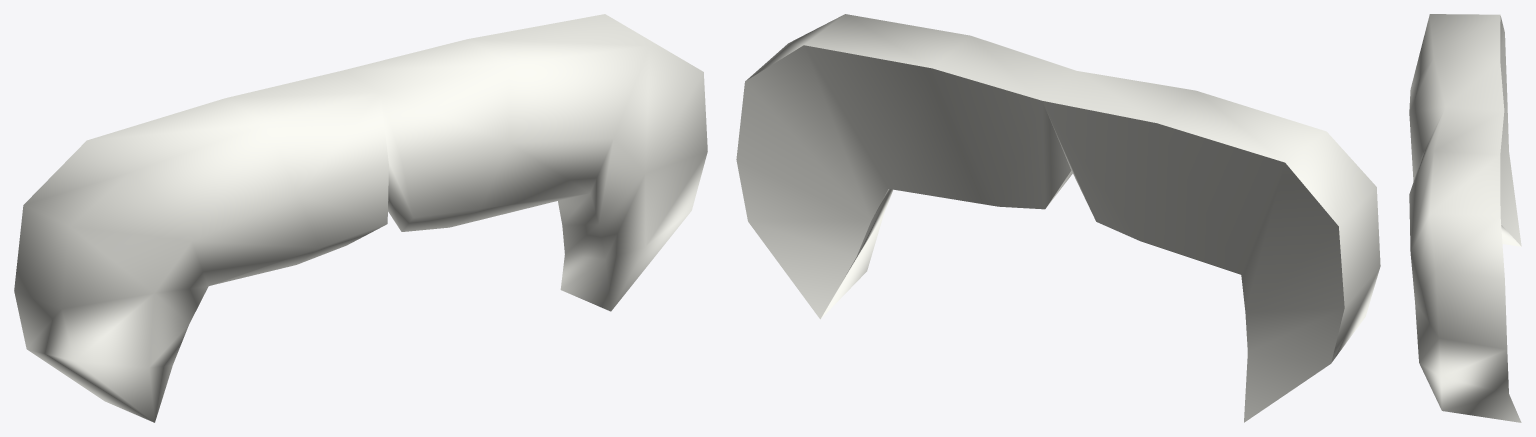
Rendered from Beard_White_5.fbx.
3 views of the same model, side by side, from view 1: azimuth 30°, elevation 25°; view 2: azimuth 150°, elevation 25°; view 3: azimuth 270°, elevation 25° (orthographic). The views are drawn at different scales.
Parts seen in each view (by area): view 1: Beard_White_5; view 2: Beard_White_5; view 3: Beard_White_5.
Boxes of the visible parts, left/top/right/bottom form: Beard_White_5: left=14, top=14, right=707, bottom=422; Beard_White_5: left=736, top=14, right=1380, bottom=422; Beard_White_5: left=1409, top=14, right=1521, bottom=422.
Size of the model in its own units: 30.33 by 12.89 by 5.69.
